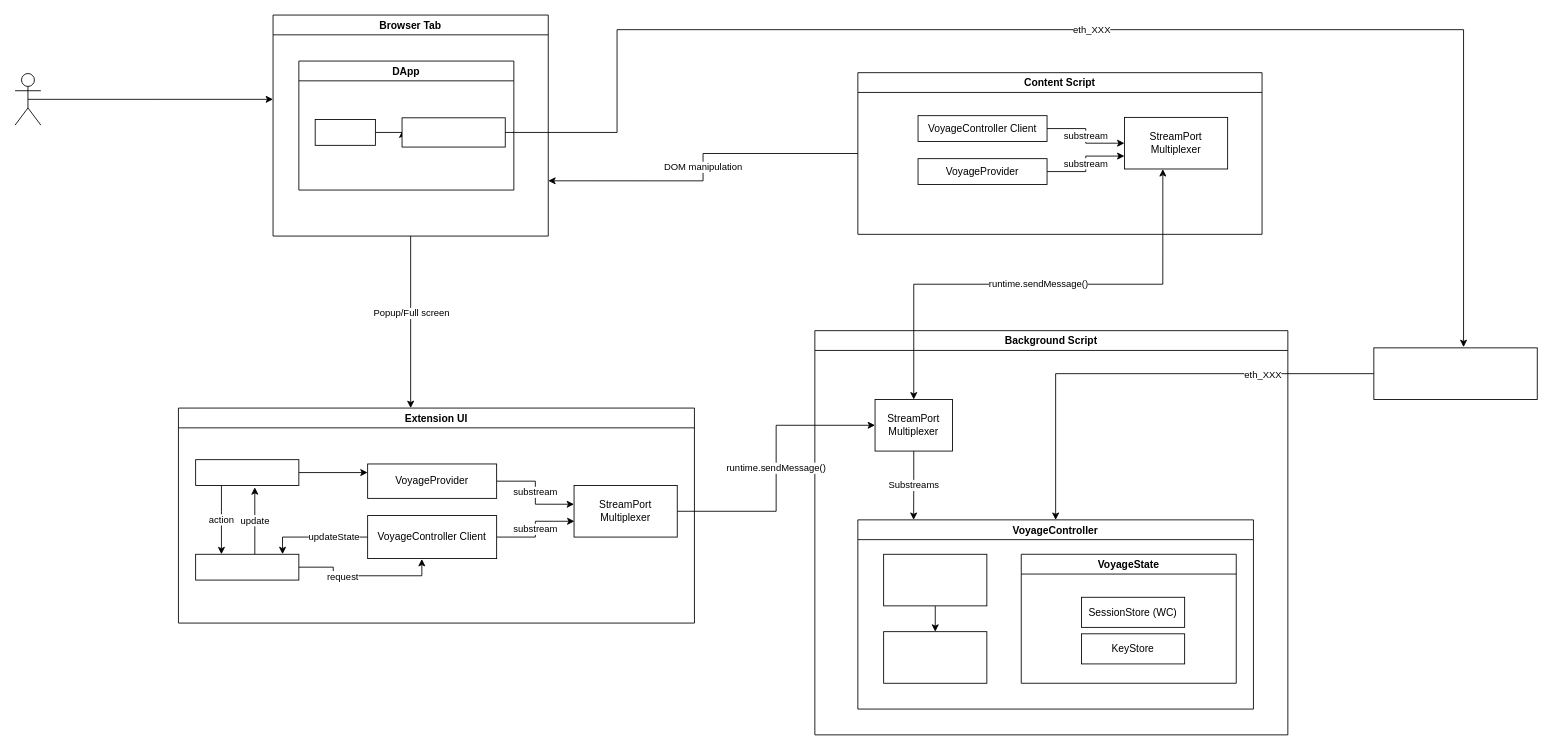
Image size: 1552x750. Some labels were removed from this diagram. The centre of each missing label's shape, as x and y in pixels:
"JsonRpcEngine" goes at pixel 935 579.
"Store (Redux)" goes at pixel 247 566.
"UI code" goes at pixel 344 132.
"UI Components" goes at pixel 247 472.
"User" goes at pixel 27 99.
"VoyageRpcService" goes at pixel 935 657.
"wallet connect client" goes at pixel 453 132.
"WalletConnect Bridge" goes at pixel 1455 373.
